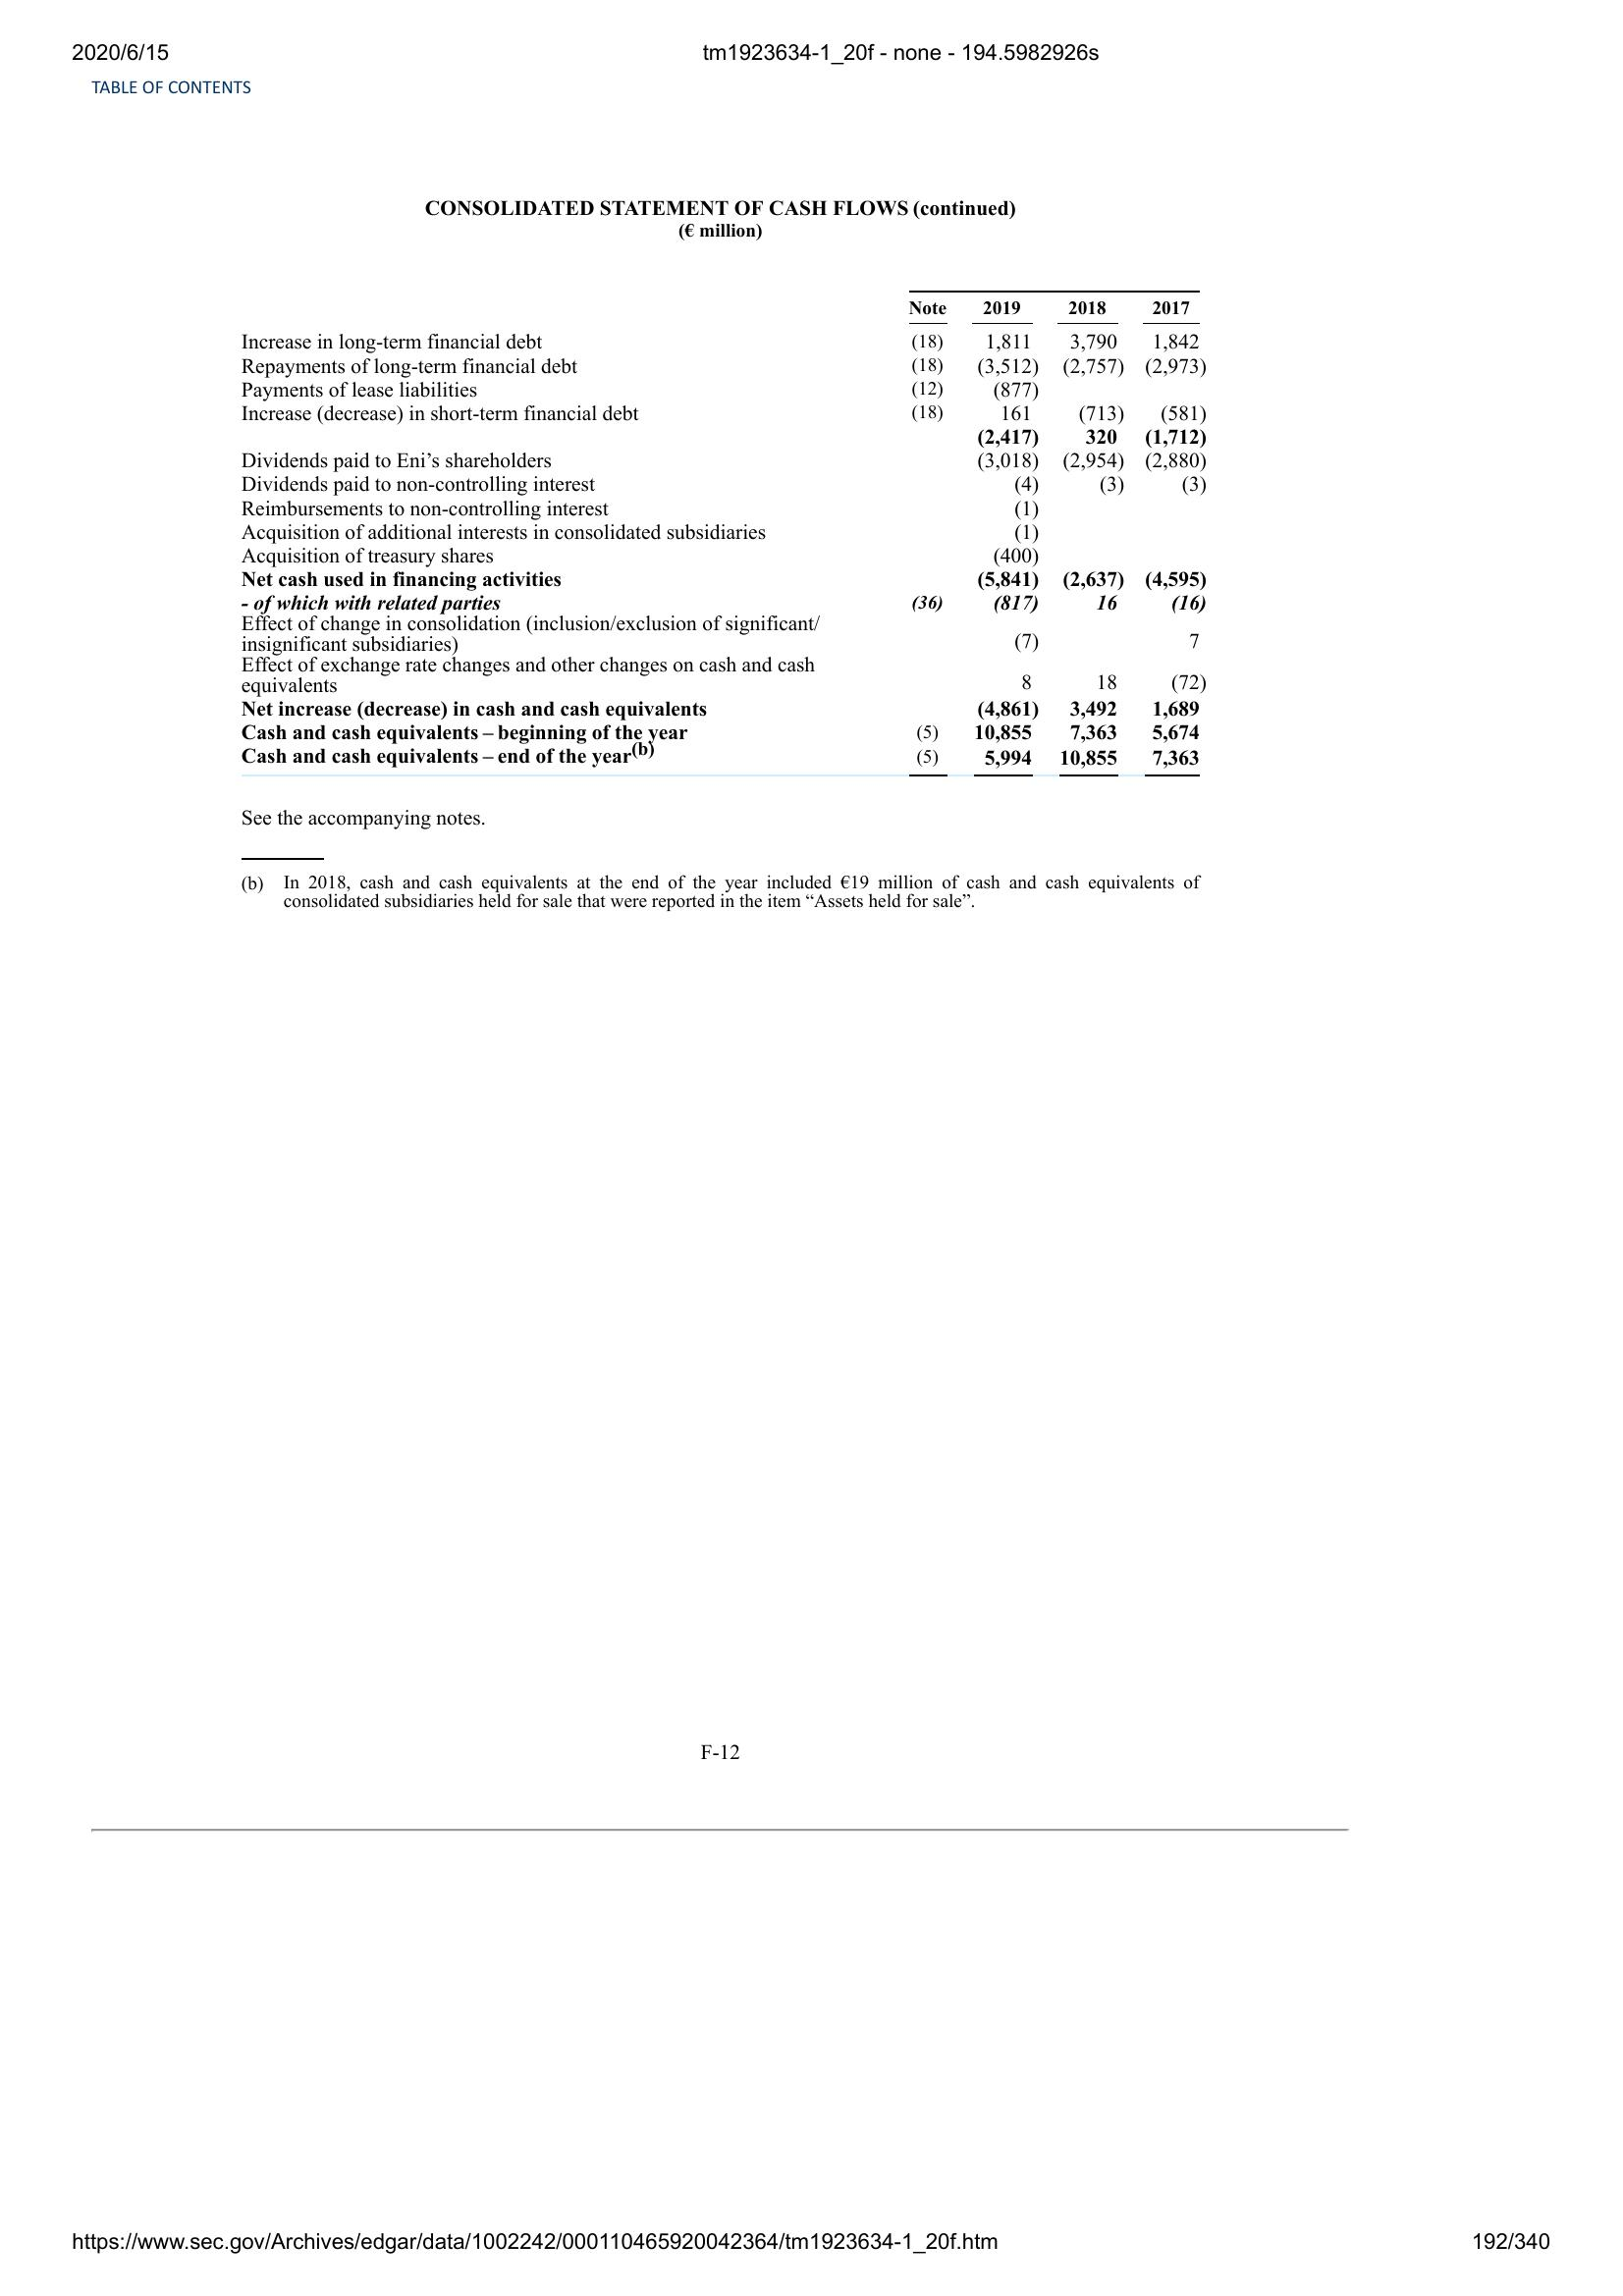table: (234, 277, 1215, 781)
